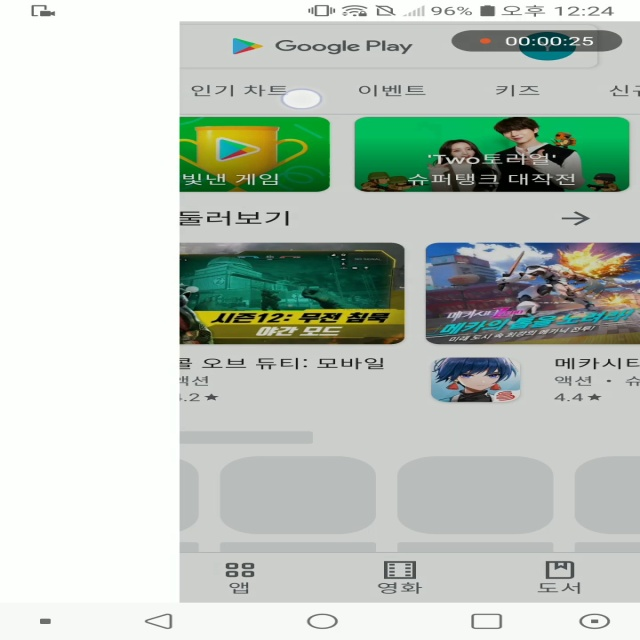Cursor: (280, 88, 324, 111)
